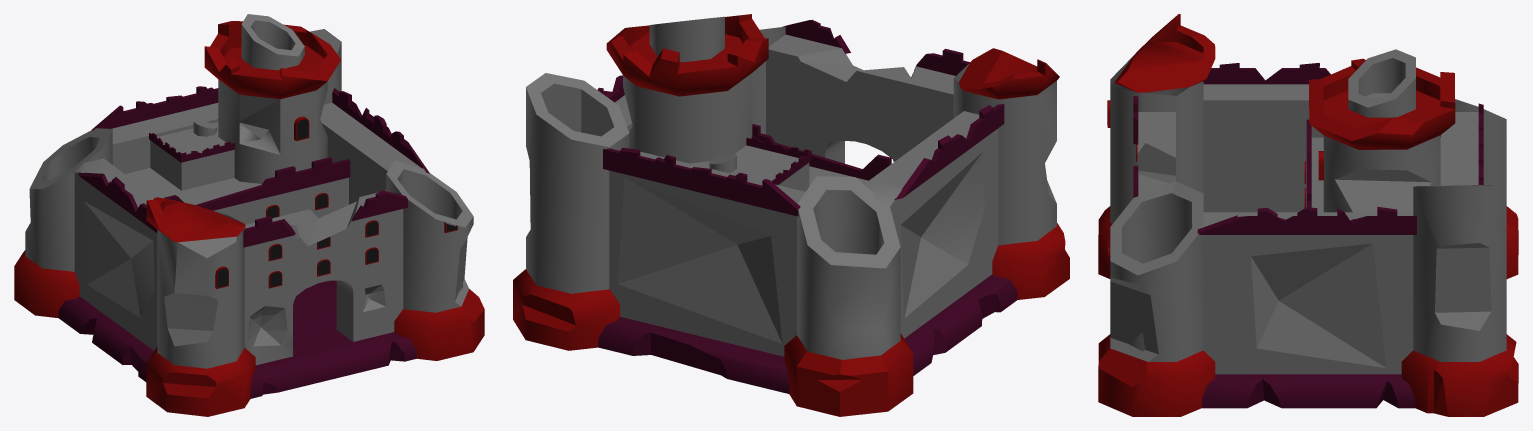
Rendered from CS_Evil_Castle_Stage03.fbx.
3 views of the same model, side by side, from view 1: azimuth 30°, elevation 25°; view 2: azimuth 150°, elevation 25°; view 3: azimuth 270°, elevation 25° (orthographic). The views are drawn at different scales.
Parts seen in each view (by area): view 1: Evil_Castle_Stage_3; view 2: Evil_Castle_Stage_3; view 3: Evil_Castle_Stage_3.
Part boxes in pixels (<box>): Evil_Castle_Stage_3: <box>14,14,484,416</box>; Evil_Castle_Stage_3: <box>513,14,1069,416</box>; Evil_Castle_Stage_3: <box>1098,14,1518,416</box>.
Size of the model in its own units: 832 by 647 by 832.
